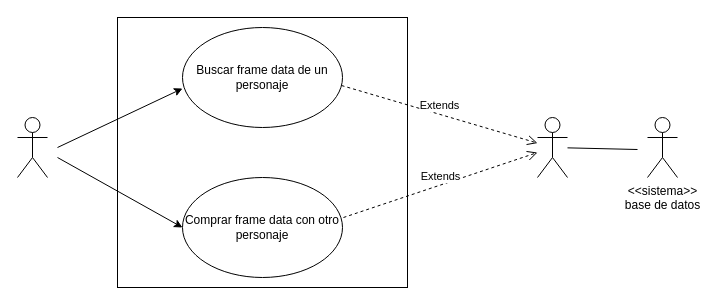
Some shapes in this 717 by 305 pixel diagram are drawn without their labels. The box of each missing label's shape, as (x1, y1, x2, y2) in pixels:
<<sistema>> comandos de interfaz de usuario: (536, 116, 568, 178)
User: (16, 116, 48, 178)
